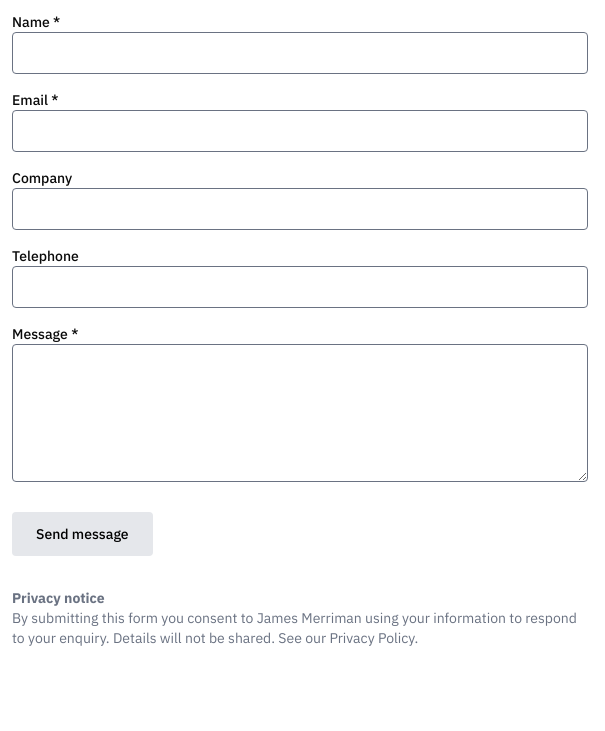
Test: ContactForm › shows validation errors when submitting an empty form
The width and height of the screenshot is (605, 731).
Click the button "Send message": (82, 534) [12,512,153,556]
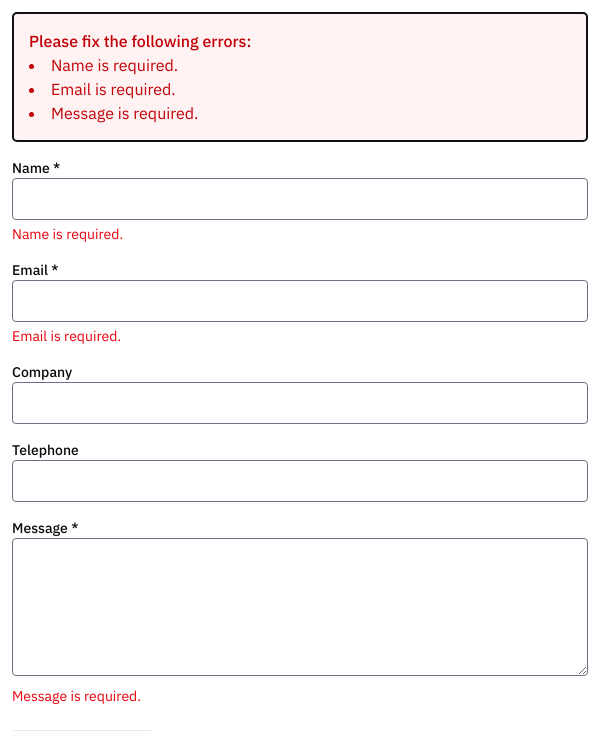
Expected: the text "Please fix the following errors:" is shown, [29,31,251,51]
Expected: the list item "Name is required." is shown, [51,55,178,75]
Expected: the list item "Email is required." is shown, [51,79,176,99]
